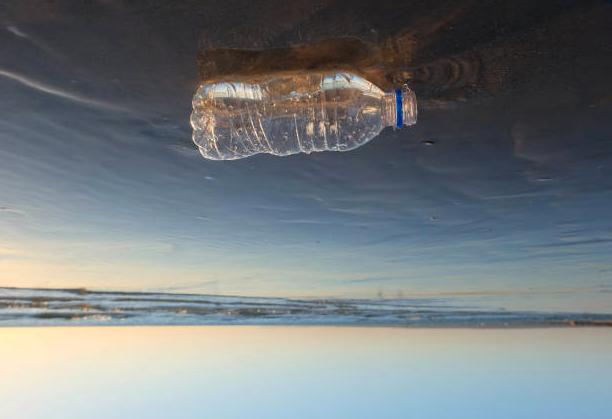Plastic: (188, 78, 425, 160)
